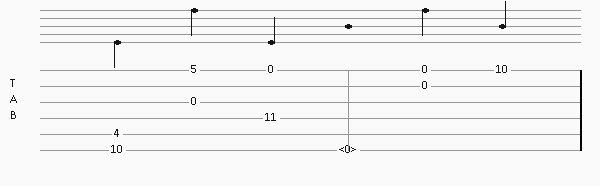0: (191, 96, 201, 108), (268, 64, 278, 76), (422, 64, 432, 76), (422, 80, 432, 92)
10: (111, 144, 127, 156), (496, 64, 512, 76)
11: (265, 112, 281, 124)
4: (114, 128, 124, 140)
5: (191, 64, 201, 76)
harmonic: (339, 144, 361, 156)
